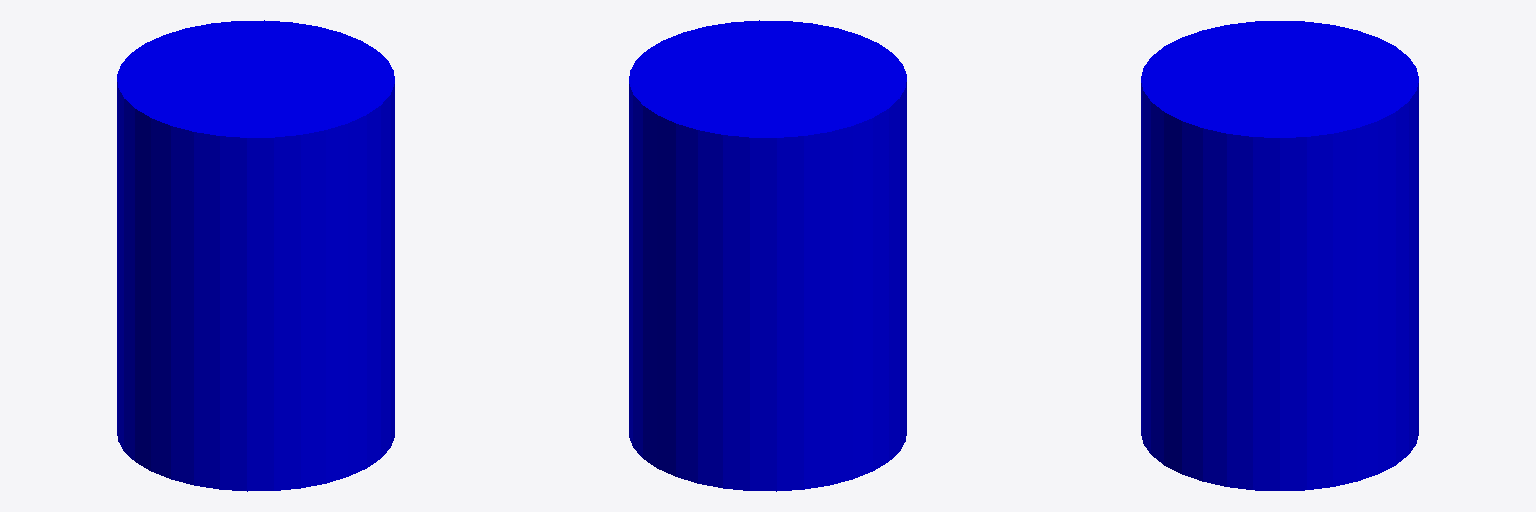
URDF robot description (can_2):
<?xml version="1.0"?>
<robot name="can_2">
	<link name="base">
	<inertial>
        	 <origin xyz="0 0 0.07" rpy="0 0 0"/>
        	 <mass value="0.05"/>
        	 <inertia ixx="0.000683333"  ixy="0"  ixz="0" iyy="0.000683333" iyz="0" izz="0.000683333" />
       </inertial>
	<visual>
                <origin xyz="0.0 0.0 0.07" rpy="0 0 0" />
                <!--origin xyz="0.0 0.0 0.055" rpy="0 0 0" /-->
		<geometry>
                         <!--<mesh filename="can/cokecan2.dae" scale="0.0254 0.0254 0.0254"/>-->
            <cylinder length="0.07" radius="0.025"/>
      		</geometry>
	    <material>
			<color rgba="0 0 1 1" />
	    </material>
		</visual>
  	 <collision>
		<!--origin xyz="0.0 0.0 -0.00255" rpy="0 0 0"/-->
		<origin xyz="0.0 0.0 0.08" rpy="0 0 0"/>
            <geometry>
       			 <!--mesh filename="can/cokecan.dae"  scale="0.0254 0.0254 0.0254"/-->
                         <cylinder length="0.07" radius="0.025"/>
            </geometry>
	    <material>
			<color rgba="0 0 1 1" />
	    </material>
        </collision>
	</link>
</robot>

--- Render facts (derived) ---
3 views of the same robot in one strip: view 1: azimuth 30°, elevation 25°; view 2: azimuth 150°, elevation 25°; view 3: azimuth 270°, elevation 25° (orthographic).
Model can_2 with 1 links and 0 joints (none), rooted at base, posed all joints at 0.
Visible links, largest first — view 1: base; view 2: base; view 3: base.
Link boxes in pixels (bbox=[...]): base: bbox=[117, 20, 394, 491]; base: bbox=[629, 20, 906, 491]; base: bbox=[1141, 21, 1418, 490].
Bounding box of the posed robot: 0.05 × 0.05 × 0.07 m (x, y, z).
Geometry: primitives only (box / cylinder / sphere), no mesh files.
